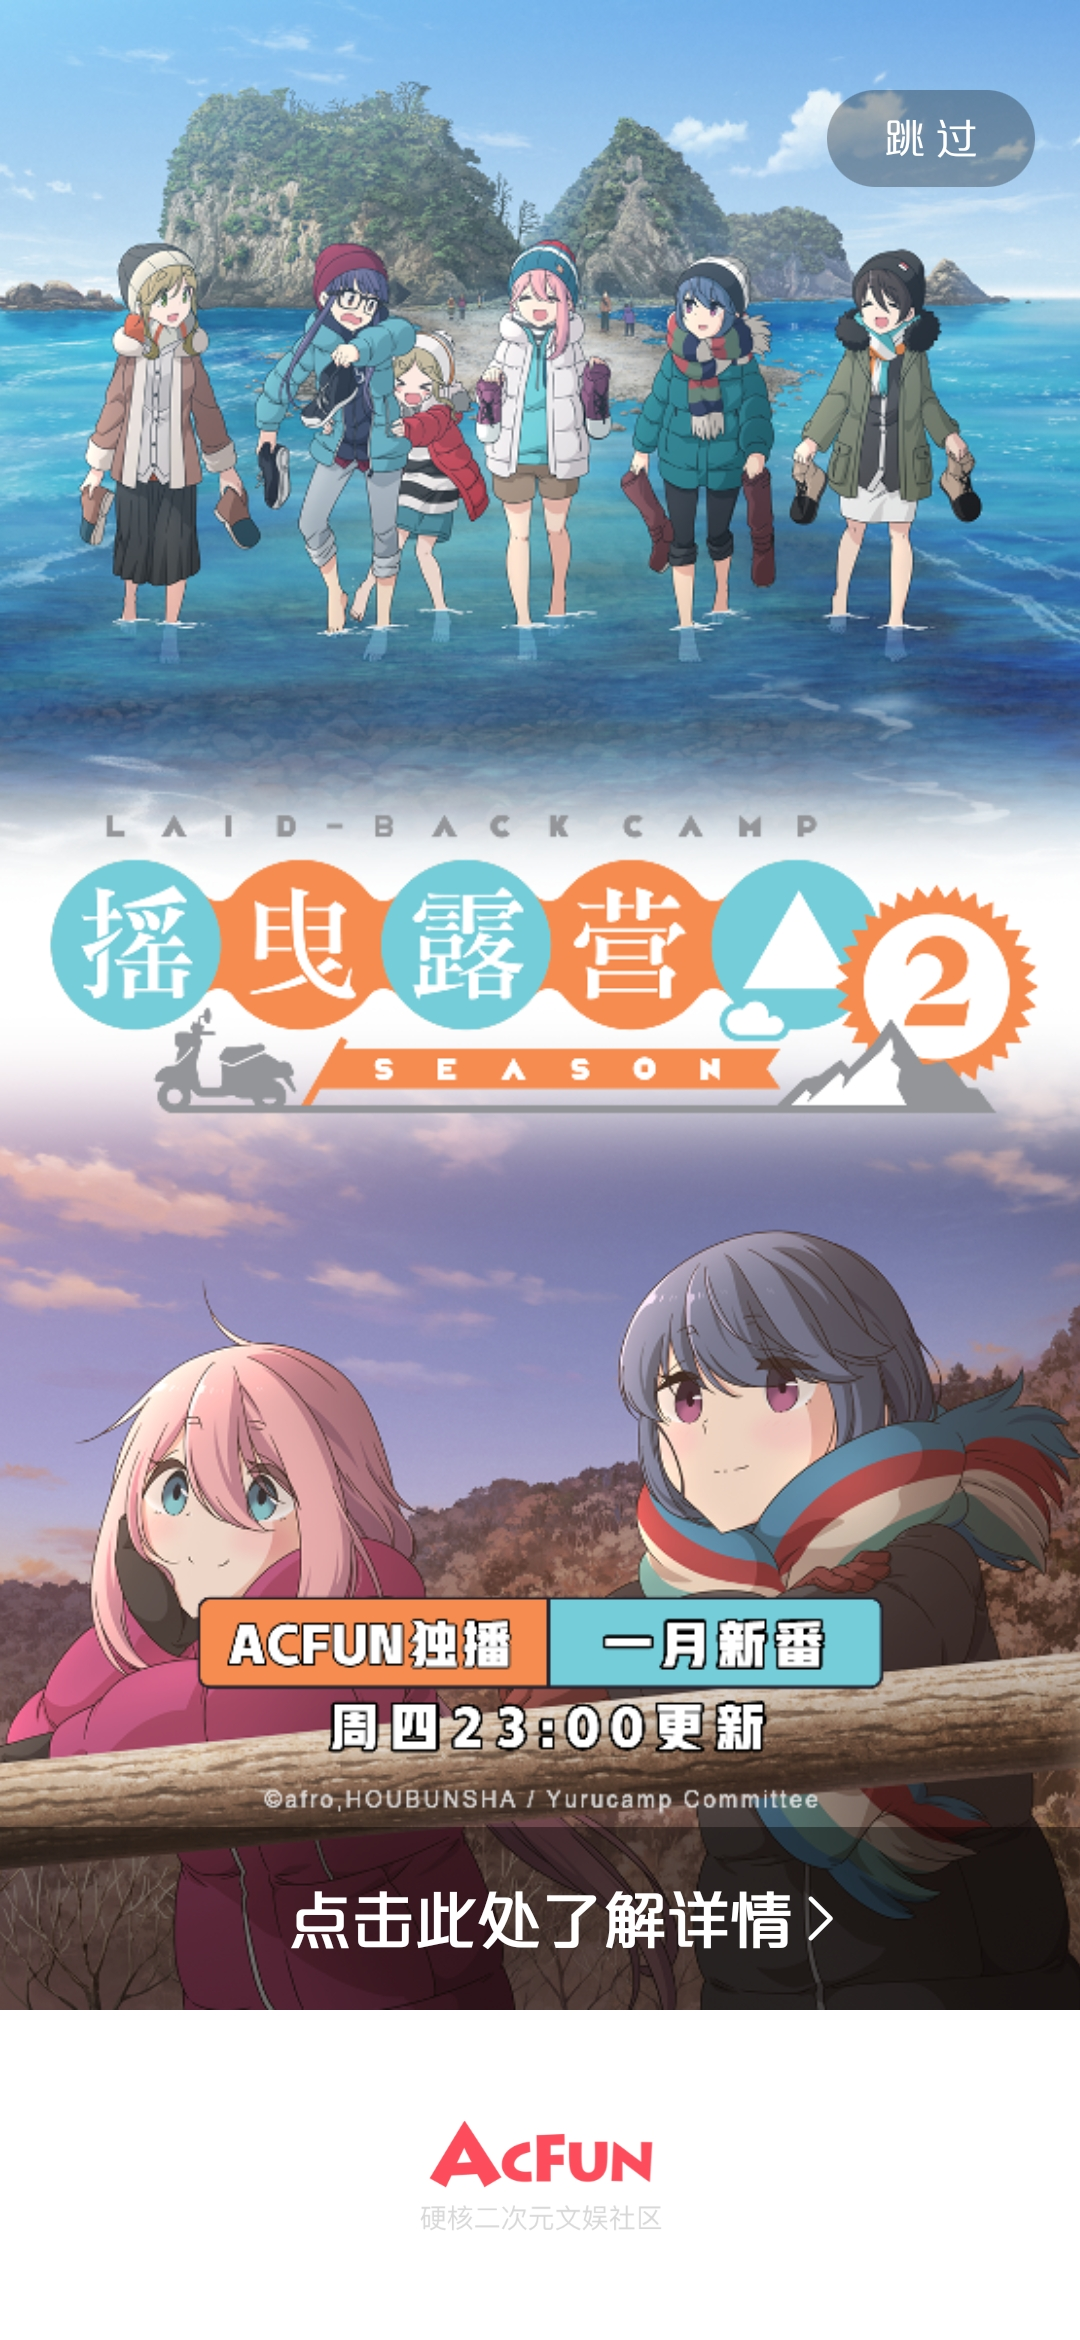skip: (843, 94, 1013, 184)
